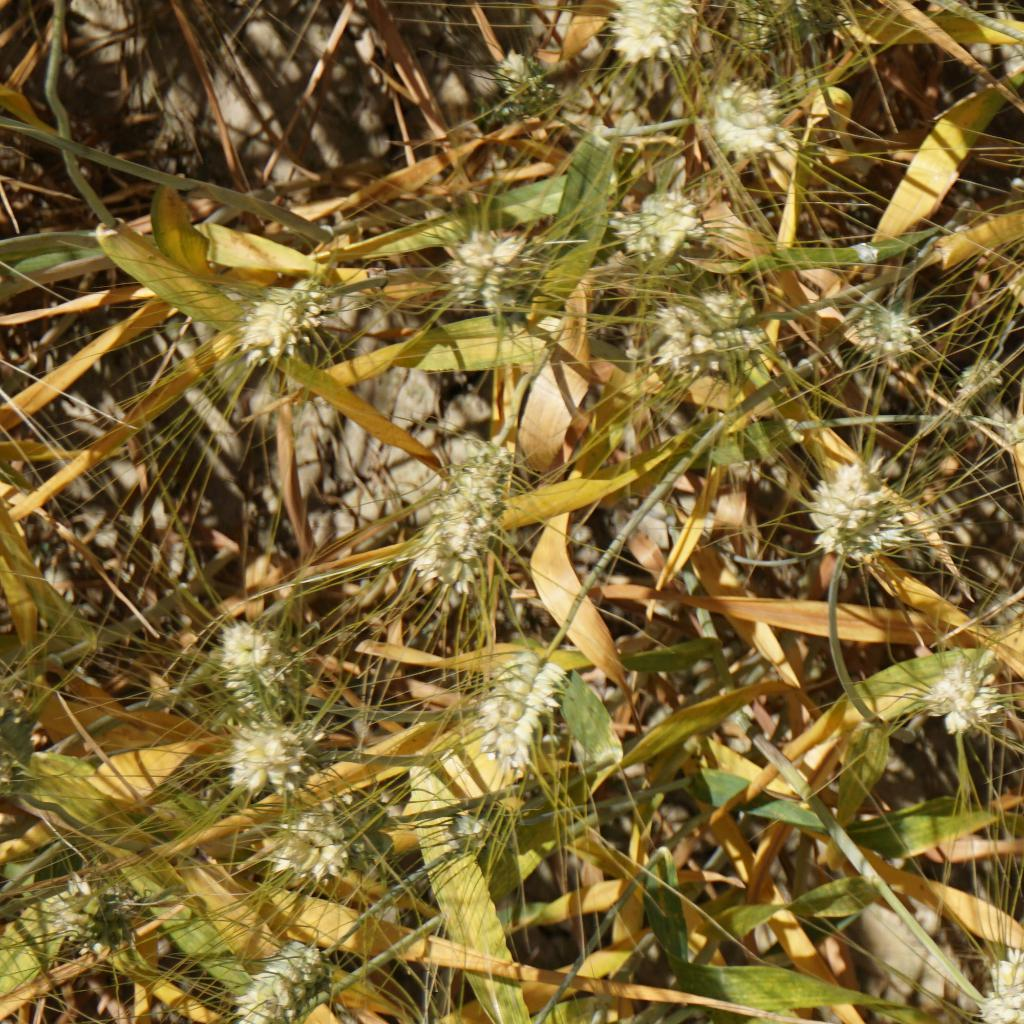0-0: (401, 444, 513, 578), (31, 865, 145, 953), (195, 622, 293, 722), (231, 941, 342, 1024), (703, 89, 805, 179), (475, 653, 557, 760), (594, 0, 719, 70), (228, 272, 326, 361), (716, 0, 829, 75), (817, 468, 909, 560), (924, 660, 1017, 750), (442, 230, 537, 304), (228, 730, 340, 792), (281, 802, 370, 878), (660, 293, 761, 358), (629, 185, 712, 260), (477, 37, 553, 118), (859, 296, 920, 363), (951, 346, 1011, 398), (986, 942, 1024, 1024)
